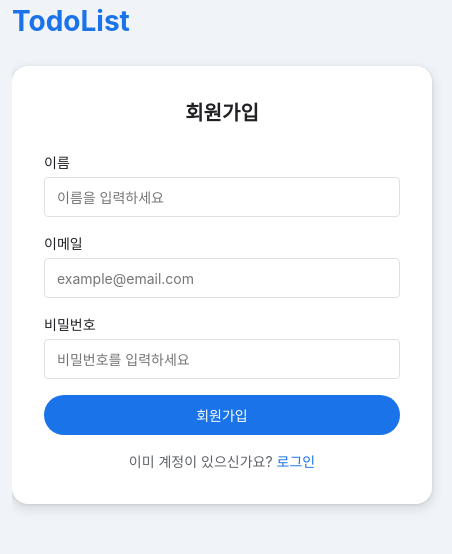
Test case: SignupForm › 유효하지 않은 비밀번호 입력 시 클라이언트 검증 에러가 표시된다
Type "홍길동" into the field labelled "이름" at (222, 197), box [44,177,400,217]
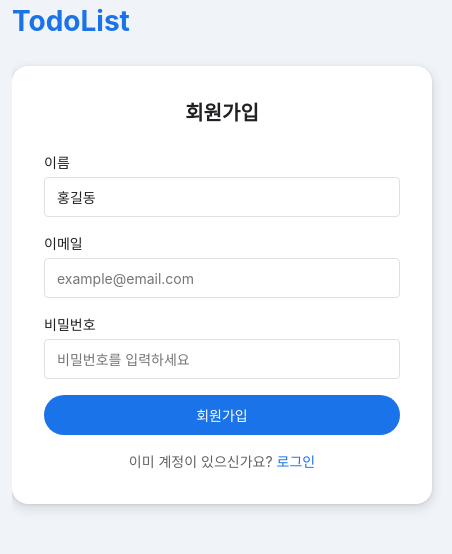
Type "test@example.com" into the field labelled "이메일" at (222, 278), box [44,258,400,298]
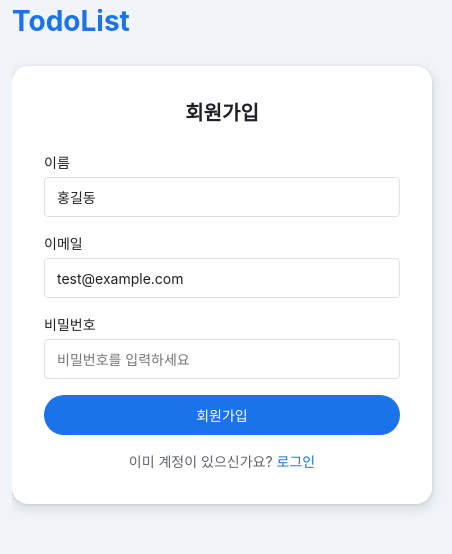
Type "short" into the password field labelled "비밀번호" at (222, 359), box [44,339,400,379]
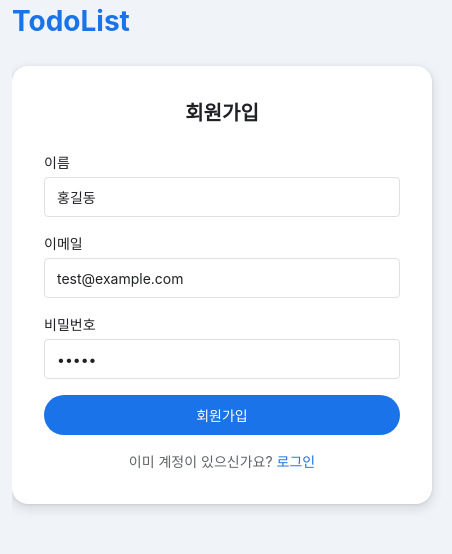
Submit the form, box [44,152,400,435]
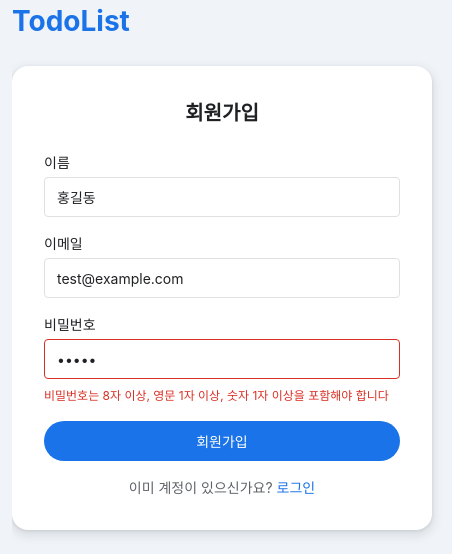
Now the text "비밀번호는 8자 이상, 영문 1자 이상, 숫자 1자 이상을 포함해야 합니다" is shown, box [44,387,400,405]
